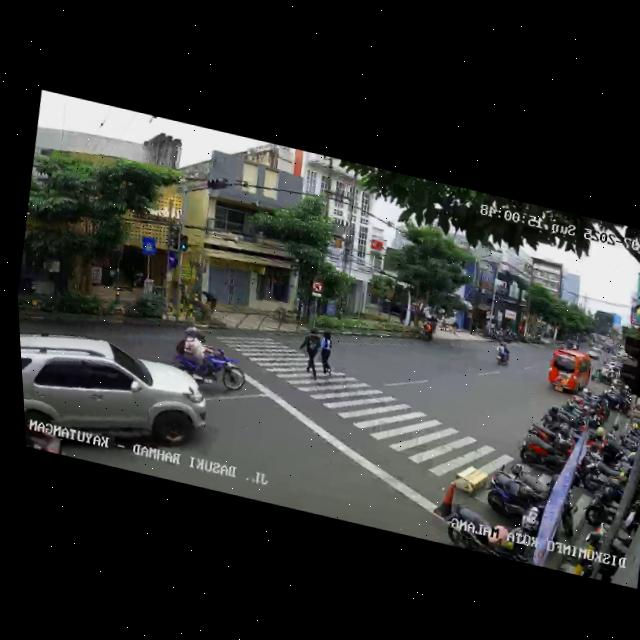car: (19, 321, 218, 486), (544, 344, 595, 399)
motorcycle: (164, 324, 250, 399), (21, 350, 76, 454), (489, 337, 512, 368)
person: (291, 326, 328, 383), (311, 327, 338, 378)
